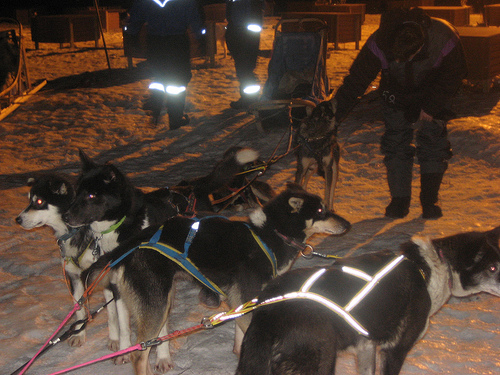dog: (232, 225, 499, 374)
